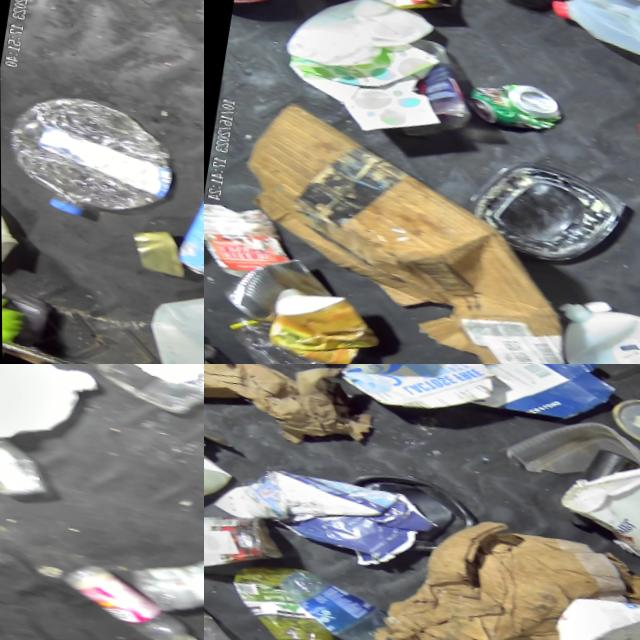can: (224, 239, 336, 336), (459, 64, 562, 134), (172, 180, 204, 283), (361, 0, 455, 17)
milk_jug: (0, 364, 86, 468), (536, 283, 640, 364), (541, 0, 640, 75)
plastic_bottle: (264, 559, 435, 640), (55, 550, 195, 640), (213, 310, 402, 364), (124, 517, 204, 629)
